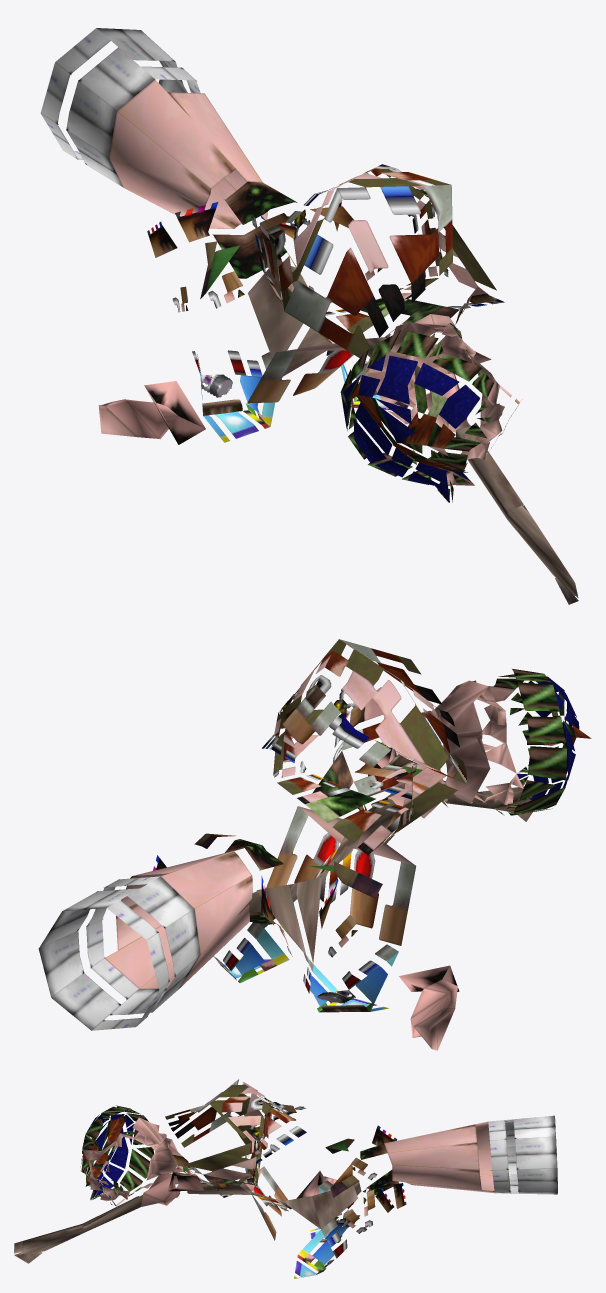
The picture shows the model from 3 angles, top to bottom: view 1: azimuth 30°, elevation 25°; view 2: azimuth 150°, elevation 25°; view 3: azimuth 270°, elevation 25°; orthographic projection. The views are drawn at different scales.
Visible parts, largest first — view 1: T1L2M008_5; view 2: T1L2M008_5; view 3: T1L2M008_5.
Part boxes in pixels (bbox=[...]): T1L2M008_5: bbox=[40, 28, 578, 604]; T1L2M008_5: bbox=[38, 639, 591, 1050]; T1L2M008_5: bbox=[14, 1079, 557, 1278].
Bounding box in the file's own units: 0.5939 × 0.5345 × 1.64.
